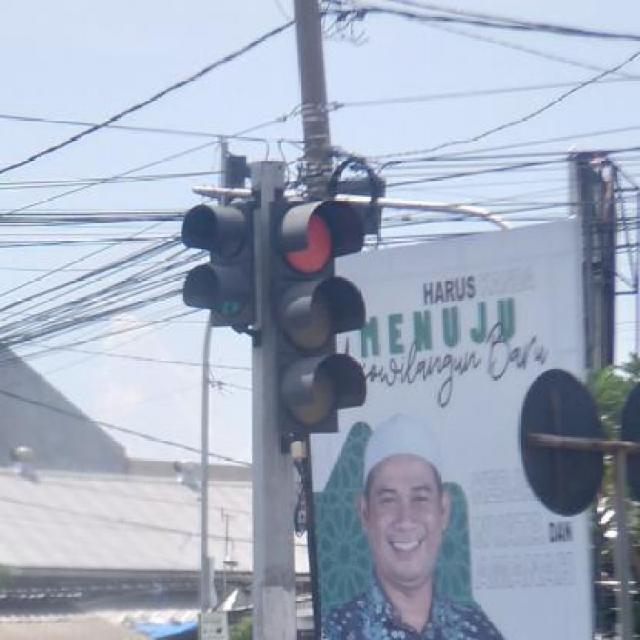traffic light: (256, 205, 356, 440), (265, 203, 354, 437)
